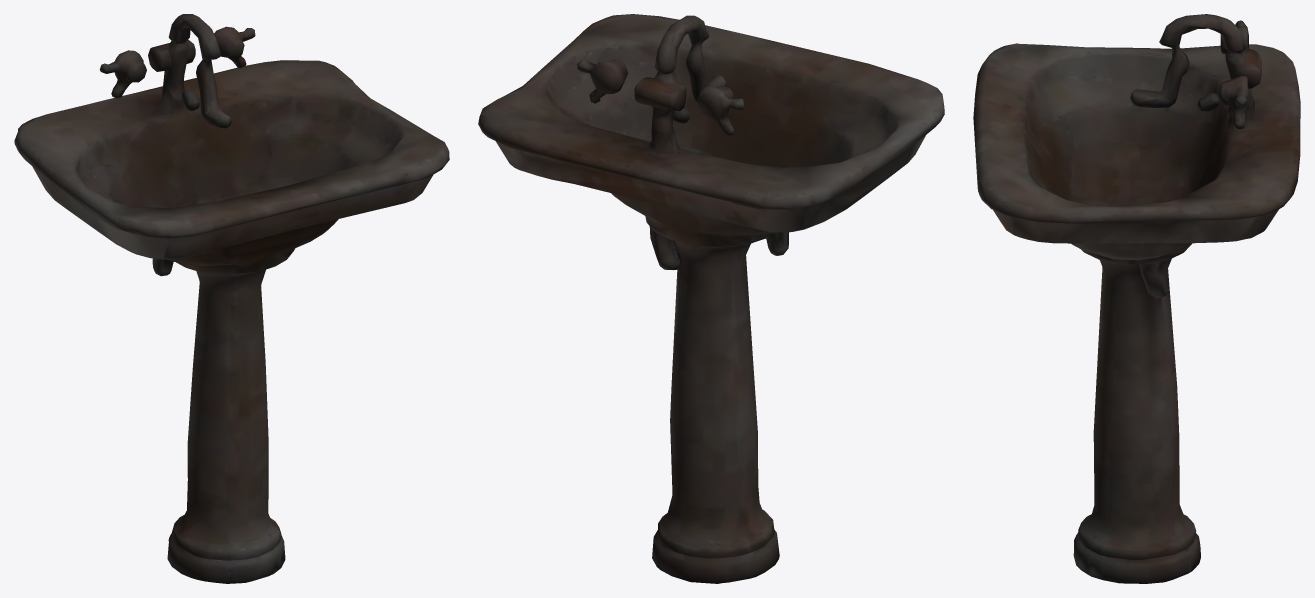
The model's file is plain-iron-washbasin-v001.glb.
3 renders of one model, left to right at view 1: azimuth 30°, elevation 25°; view 2: azimuth 150°, elevation 25°; view 3: azimuth 270°, elevation 25°, orthographic. The views are drawn at different scales.
Visible parts, largest first — view 1: plain-iron-washbasin; view 2: plain-iron-washbasin; view 3: plain-iron-washbasin.
Boxes of the visible parts, left/top/right/bottom form: plain-iron-washbasin: left=14, top=14, right=449, bottom=583; plain-iron-washbasin: left=478, top=14, right=944, bottom=583; plain-iron-washbasin: left=973, top=14, right=1300, bottom=583.
Bounding box in the file's own units: 0.541 × 0.8191 × 0.4453.
1 material, 1 textured.
